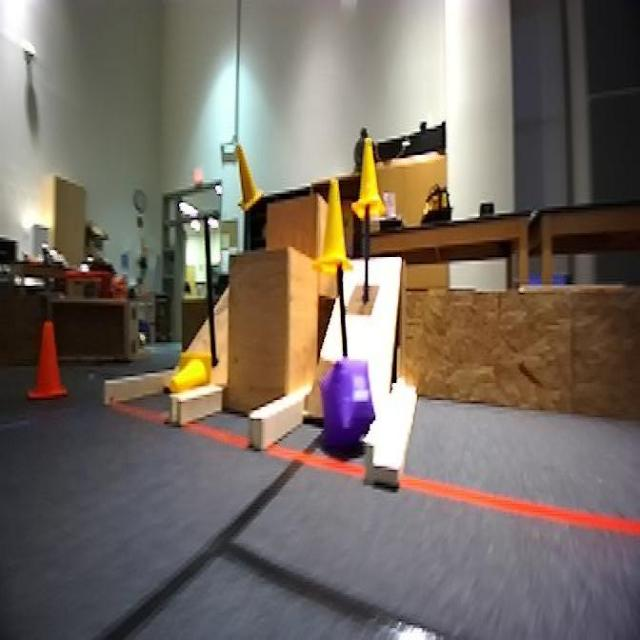frc_cone: (318, 177, 353, 271), (355, 145, 386, 218), (170, 349, 213, 397), (237, 153, 262, 215)
frc_cube: (312, 358, 368, 442)
